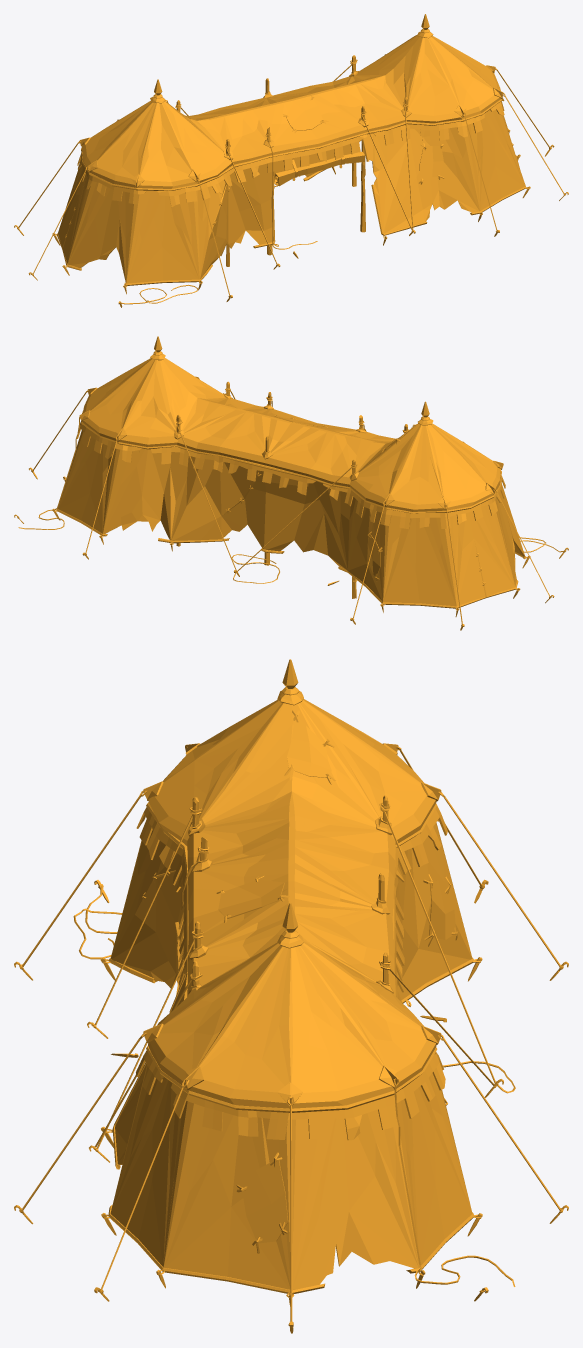
Rendered from SM_Tent_Noble_Striped_Repaired_Fantasy.fbx.
The picture shows the model from 3 angles, top to bottom: view 1: azimuth 30°, elevation 25°; view 2: azimuth 150°, elevation 25°; view 3: azimuth 270°, elevation 25°; orthographic projection. The views are drawn at different scales.
Parts seen in each view (by area): view 1: tent-noble-striped-repaired-fantasy; view 2: tent-noble-striped-repaired-fantasy; view 3: tent-noble-striped-repaired-fantasy.
Part boxes in pixels (x1=…): tent-noble-striped-repaired-fantasy: x1=14, y1=14, x2=568, y2=307; tent-noble-striped-repaired-fantasy: x1=14, y1=336, x2=568, y2=630; tent-noble-striped-repaired-fantasy: x1=14, y1=659, x2=568, y2=1333.
Size of the model in its own units: 16.33 by 5.64 by 8.01.
